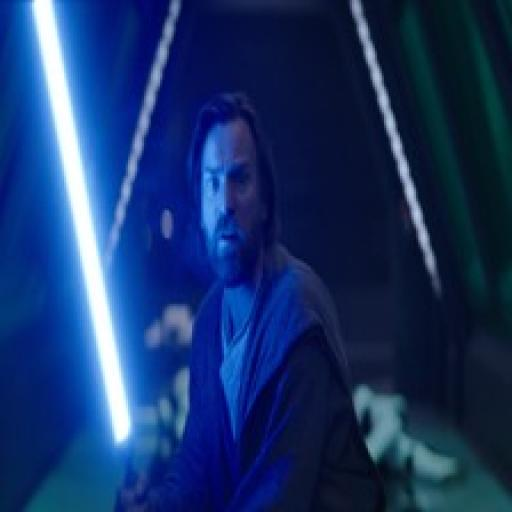human: (108, 88, 368, 512)
lightsaber: (28, 1, 142, 512)
